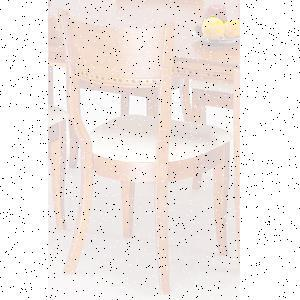Silla: (53, 5, 233, 295)
